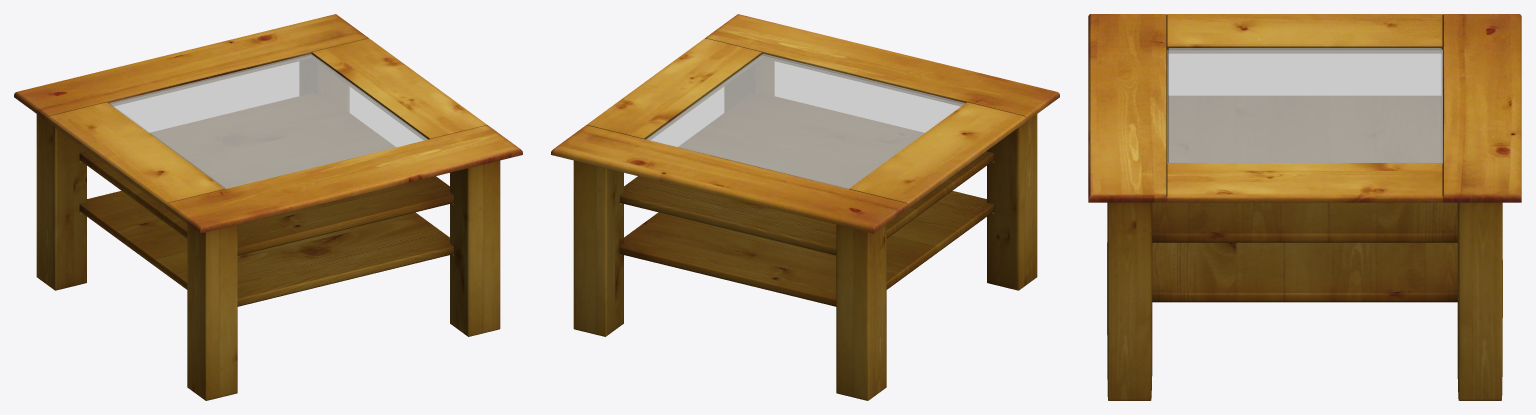
File: table1.fbx
3 views of the same model, side by side, from view 1: azimuth 30°, elevation 25°; view 2: azimuth 150°, elevation 25°; view 3: azimuth 270°, elevation 25° (orthographic). The views are drawn at different scales.
Visible parts, largest first — view 1: Cube; view 2: Cube; view 3: Cube.
Boxes of the visible parts, x1,y1,x2,y2 form: Cube: (14, 14, 522, 400); Cube: (551, 14, 1059, 400); Cube: (1088, 14, 1521, 400).
Bounding box in the file's own units: 0.8581 × 0.8581 × 0.4664.
Materials: 2 (2 with a texture image).
